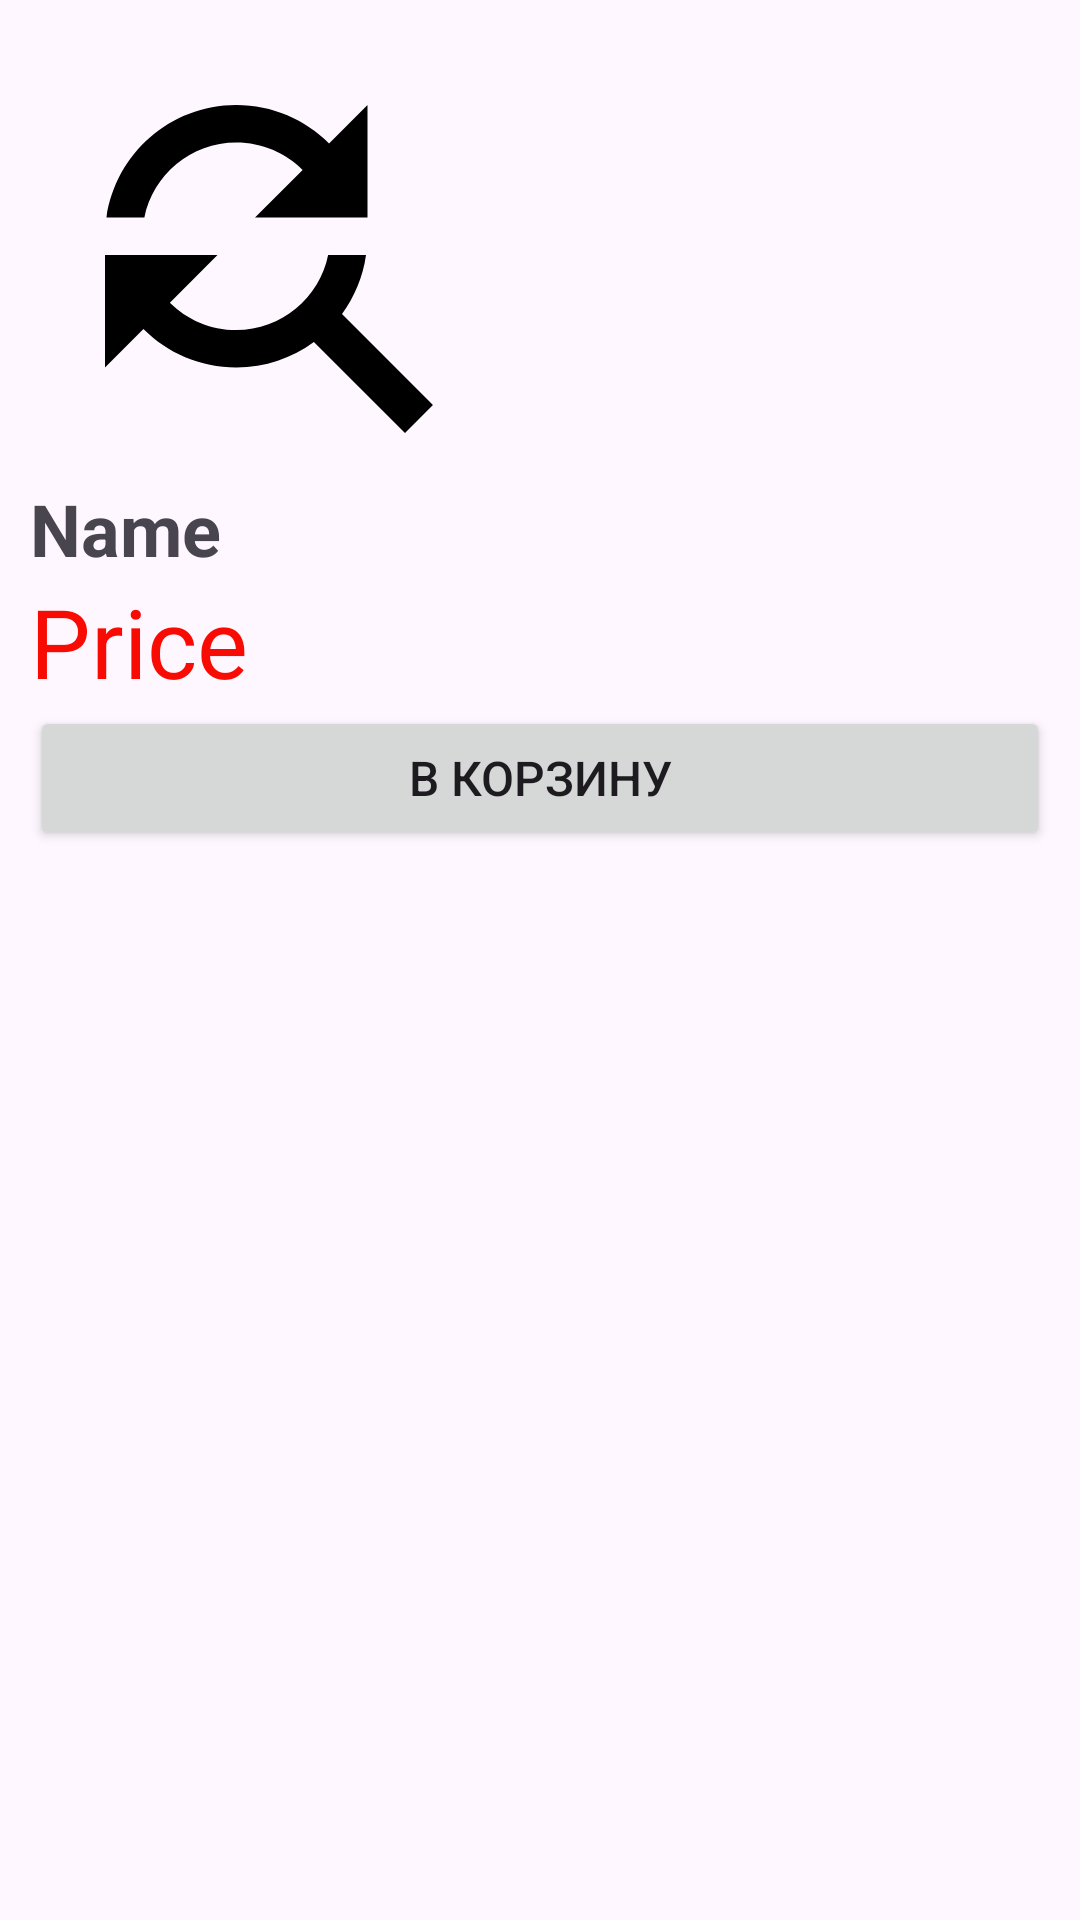

Point at icon controls on the screen. Image size 1080 x 1920, points as (x=x, y=y).
search: (x=269, y=269)
